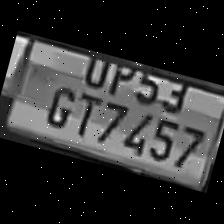3: (156, 70, 194, 114)
4: (116, 101, 154, 156)
5: (142, 111, 180, 164), (127, 63, 165, 107)
7: (90, 94, 130, 150), (168, 119, 206, 172)
G: (38, 77, 80, 133)
P: (102, 56, 138, 100)
T: (67, 88, 104, 140)
U: (76, 50, 114, 90)
